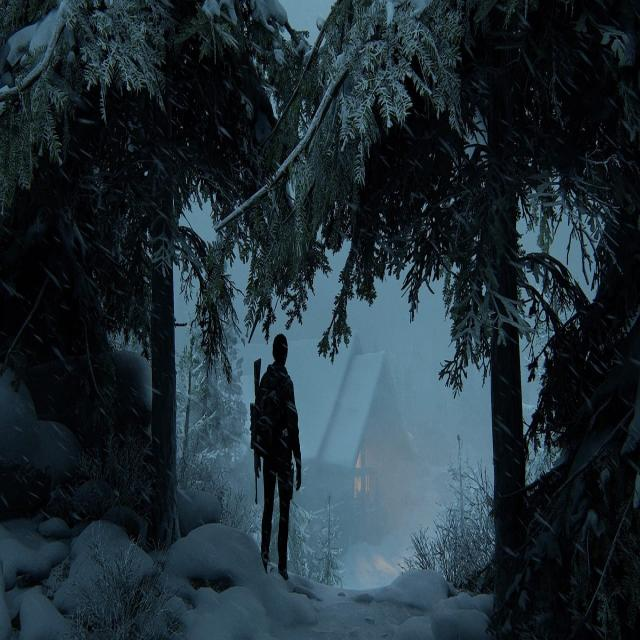Forest: (2, 0, 640, 635)
Militant: (244, 327, 334, 596)
